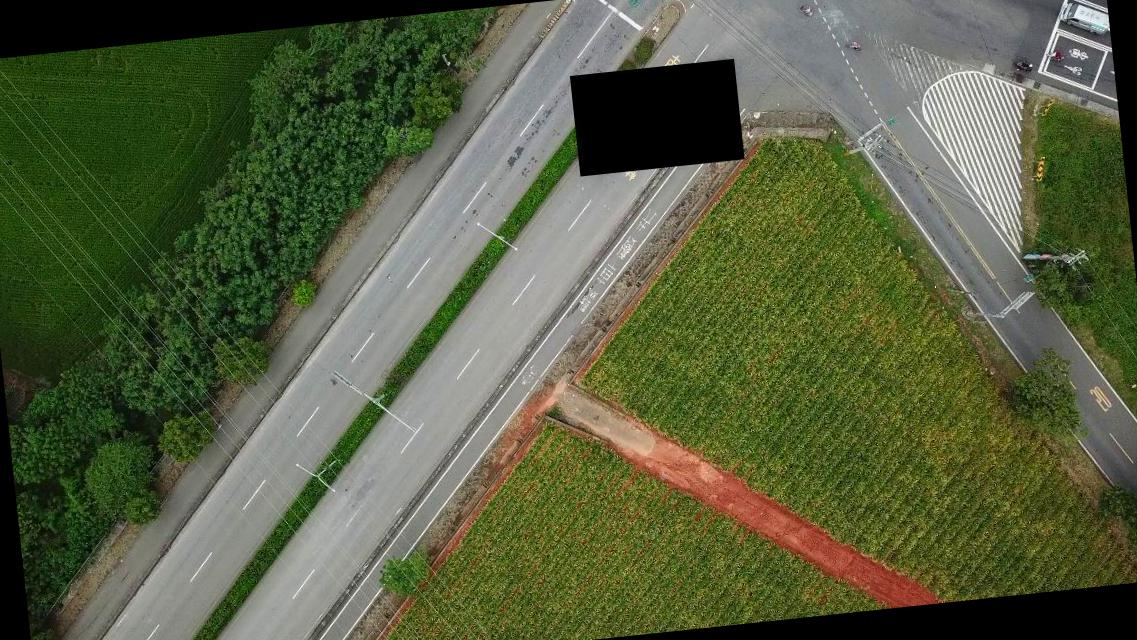vehicle: (1058, 0, 1110, 42)
